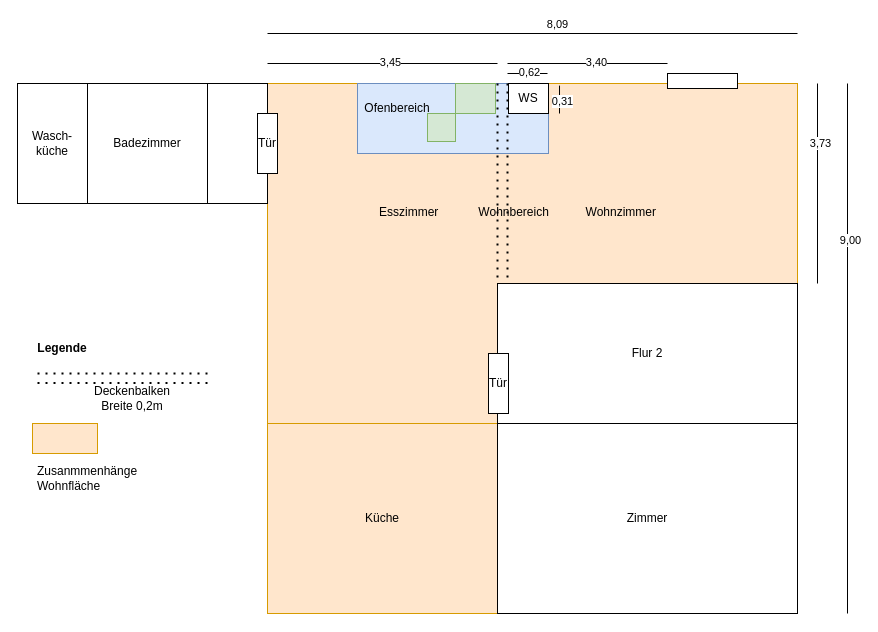
Image size: 878x632. Some labels were removed from this diagram. The box of each missing label's shape, as (x1, y1, x2, y2) in pixels:
BR: (426, 112, 456, 142)
Fenster: (666, 72, 738, 88)
Flur 1: (206, 82, 268, 204)
ST: (454, 82, 496, 114)
